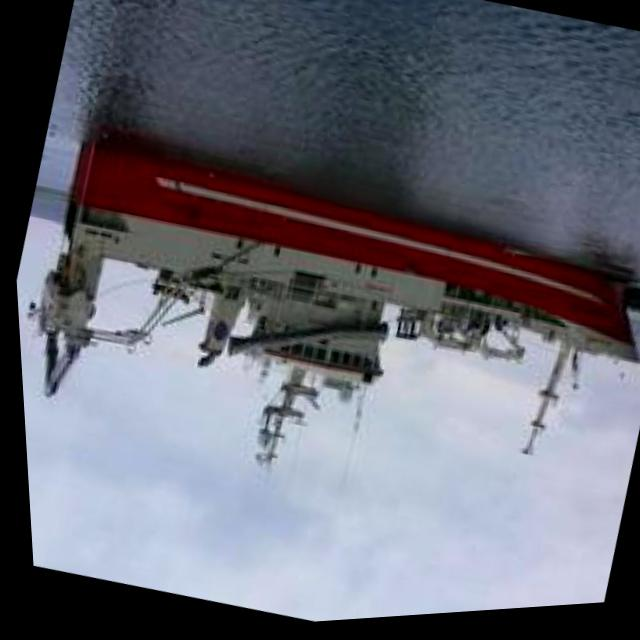ship2: (36, 140, 639, 474)
